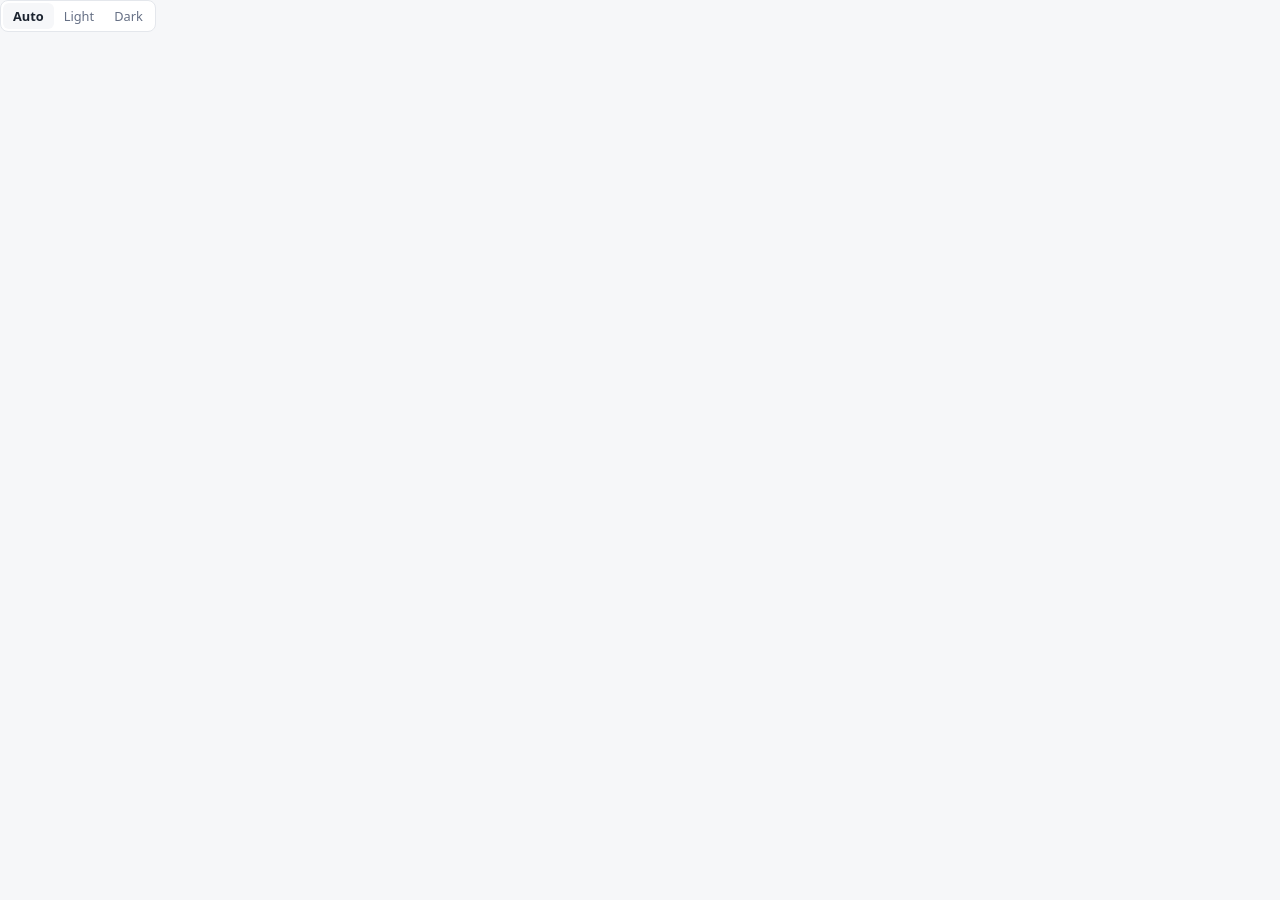
ThemeToggle › sets and clears the theme on <html>
The image size is (1280, 900).
Later steps or results of the test are not shown.
Step 1. Click the radio button labelled "Dark" → [128, 16], box [104,3,153,29]
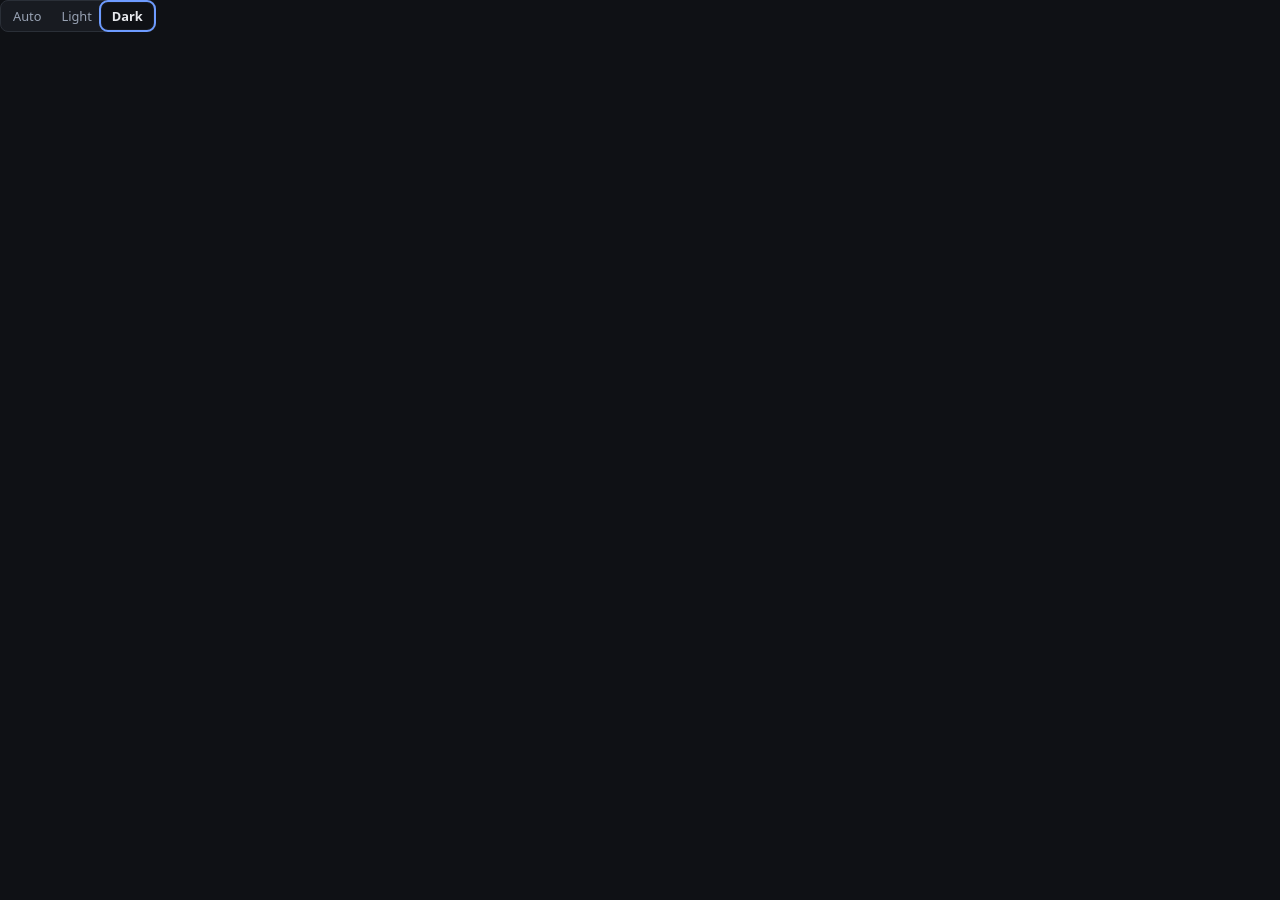
Now the radio button labelled "Dark" is checked, box [102,3,153,29]
